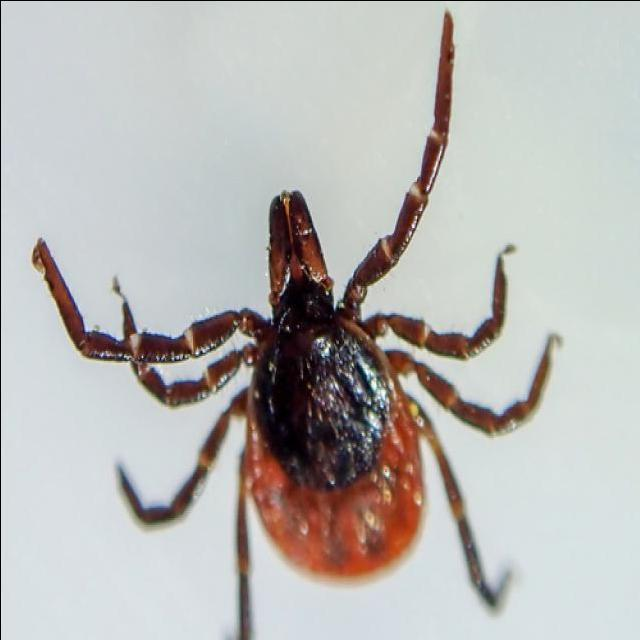Ixodes Ricinus-F: (29, 9, 563, 640)
